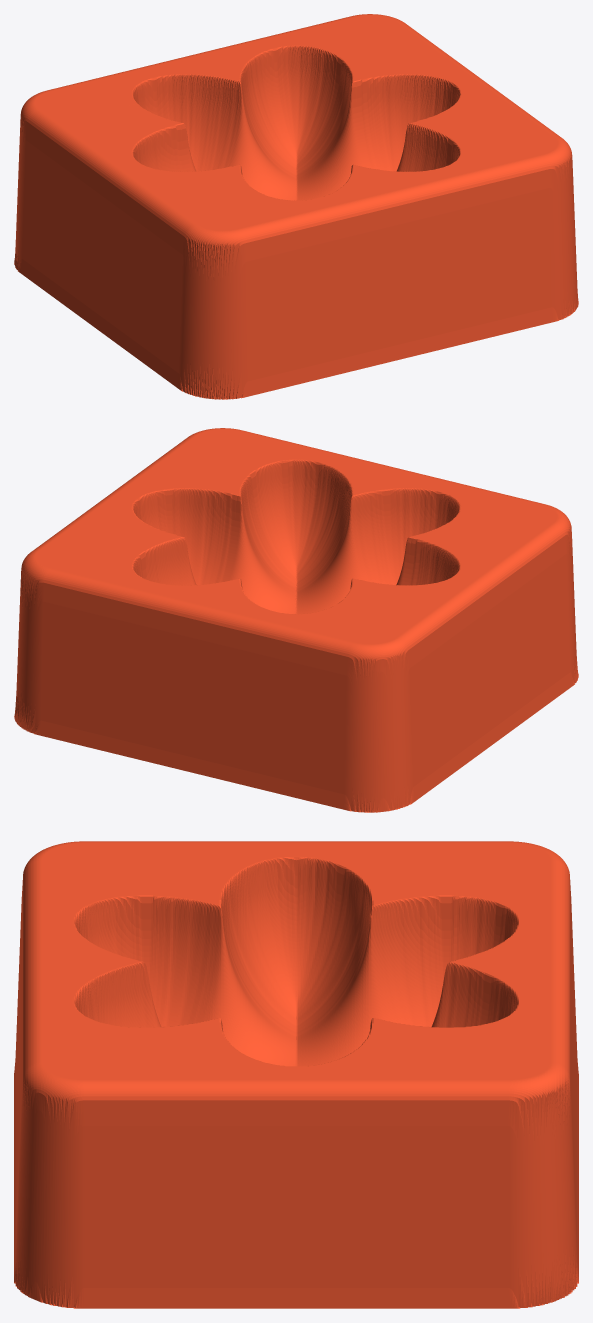
The model's file is mold.glb.
3 views of the same model, one above another, from view 1: azimuth 30°, elevation 25°; view 2: azimuth 150°, elevation 25°; view 3: azimuth 270°, elevation 25° (orthographic). The views are drawn at different scales.
Parts seen in each view (by area): view 1: geometry_0; view 2: geometry_0; view 3: geometry_0.
Boxes of the visible parts, x1=… form: geometry_0: x1=14, y1=14, x2=578, y2=399; geometry_0: x1=14, y1=428, x2=578, y2=812; geometry_0: x1=14, y1=841, x2=578, y2=1308.
Bounding box in the file's own units: 0.0798 × 0.031 × 0.0732.
